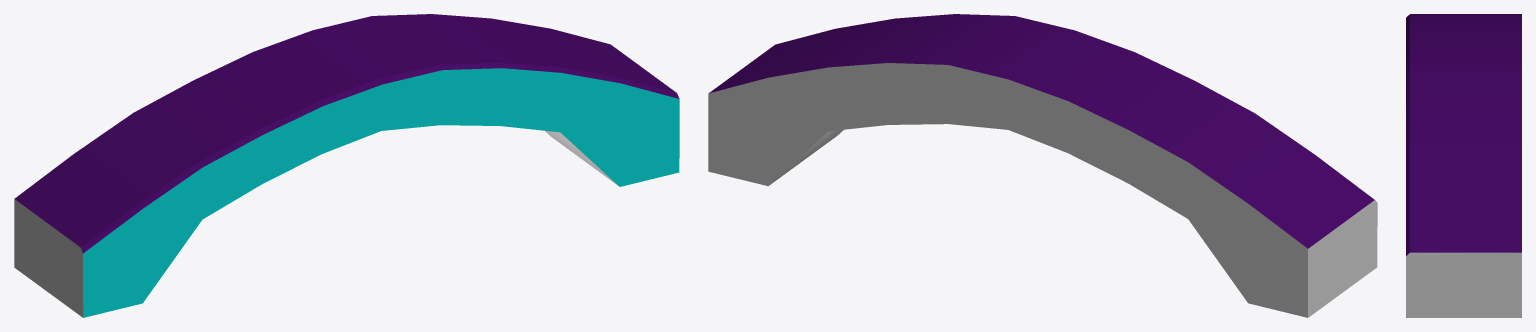
File: Steel Bridge Fix.fbx
3 views of the same model, side by side, from view 1: azimuth 30°, elevation 25°; view 2: azimuth 150°, elevation 25°; view 3: azimuth 270°, elevation 25° (orthographic). The views are drawn at different scales.
Visible parts, largest first — view 1: Steel_bridge, Steel_bridge_extra_piece; view 2: Steel_bridge_extra_piece, Steel_bridge; view 3: Steel_bridge, Steel_bridge_extra_piece.
Boxes of the visible parts, left/top/right/bottom form: Steel_bridge: left=14, top=14, right=679, bottom=317; Steel_bridge_extra_piece: left=14, top=131, right=617, bottom=317; Steel_bridge_extra_piece: left=708, top=63, right=1377, bottom=317; Steel_bridge: left=709, top=14, right=1374, bottom=248; Steel_bridge: left=1406, top=14, right=1521, bottom=255; Steel_bridge_extra_piece: left=1406, top=252, right=1521, bottom=317.
Size of the model in its own units: 10.01 by 2.64 by 2.
